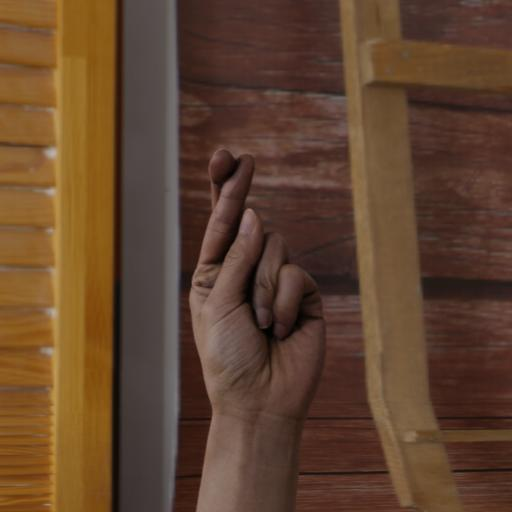R: (166, 134, 352, 492)
